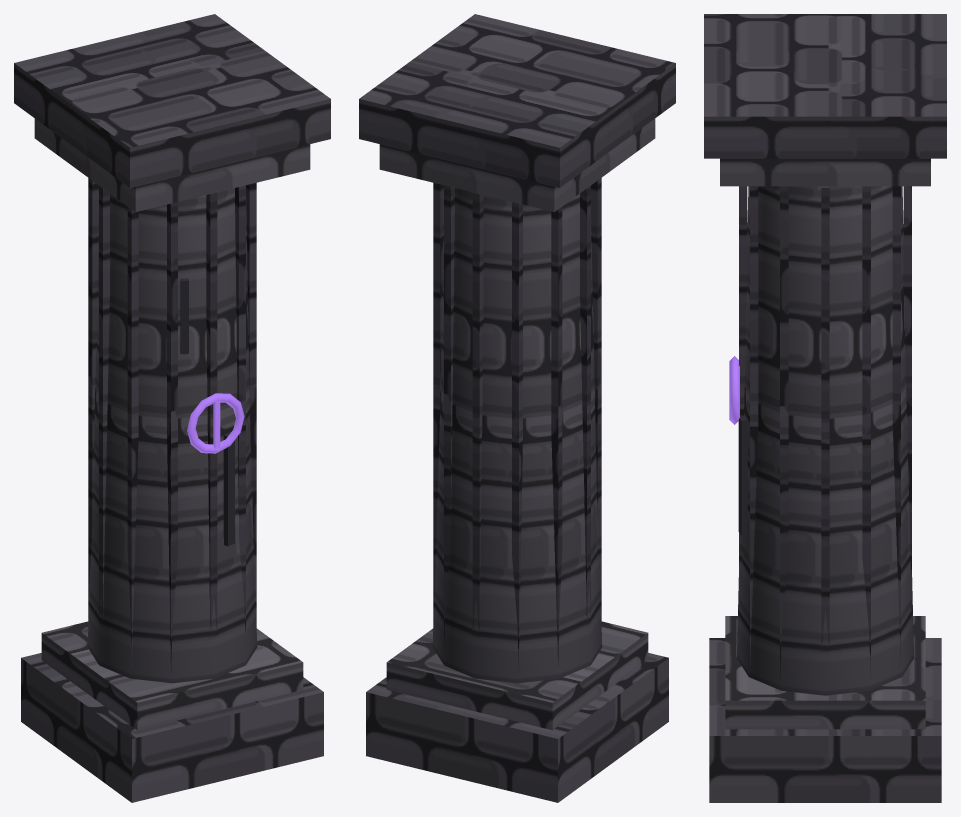
File: steinsaeule.glb
3 views of the same model, side by side, from view 1: azimuth 30°, elevation 25°; view 2: azimuth 150°, elevation 25°; view 3: azimuth 270°, elevation 25° (orthographic). The views are drawn at different scales.
Visible parts, largest first — view 1: modell, flammen; view 2: modell; view 3: modell, flammen.
Part boxes in pixels (x1,y1,x2,y2): modell: (14,14,330,802); flammen: (187,393,244,453); modell: (359,14,675,802); modell: (704,14,946,802); flammen: (729,356,739,424).
Size of the model in its own units: 1.15 by 3.6 by 1.15.
Materials: 3 (1 with a texture image).
